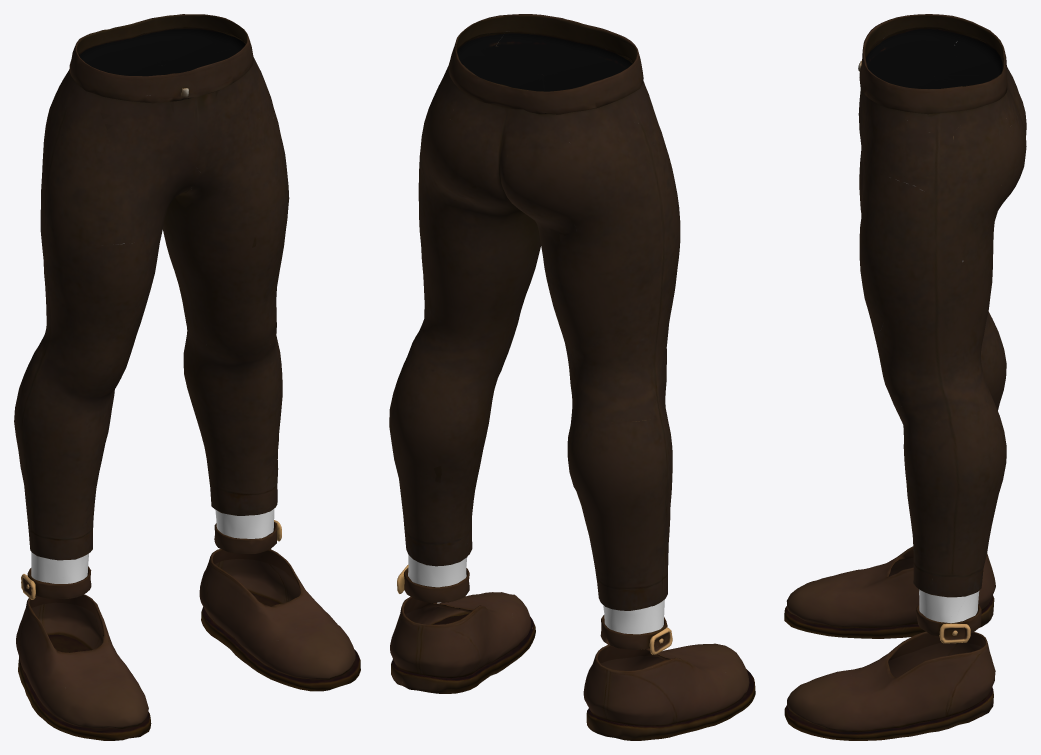
Rendered from Meshy_AI_Brown_Riding_Breeches_1112092620_texture.glb.
3 renders of one model, left to right at view 1: azimuth 30°, elevation 25°; view 2: azimuth 150°, elevation 25°; view 3: azimuth 270°, elevation 25°, orthographic. The views are drawn at different scales.
Parts seen in each view (by area): view 1: geometry_0; view 2: geometry_0; view 3: geometry_0.
Part boxes in pixels (box(x1,y1,x2,y2)): geometry_0: box(14, 14, 360, 740); geometry_0: box(389, 14, 755, 740); geometry_0: box(784, 14, 1026, 740).
Bounding box in the file's own units: 0.5113 × 1 × 0.3572.
Materials: 1 (1 with a texture image).
